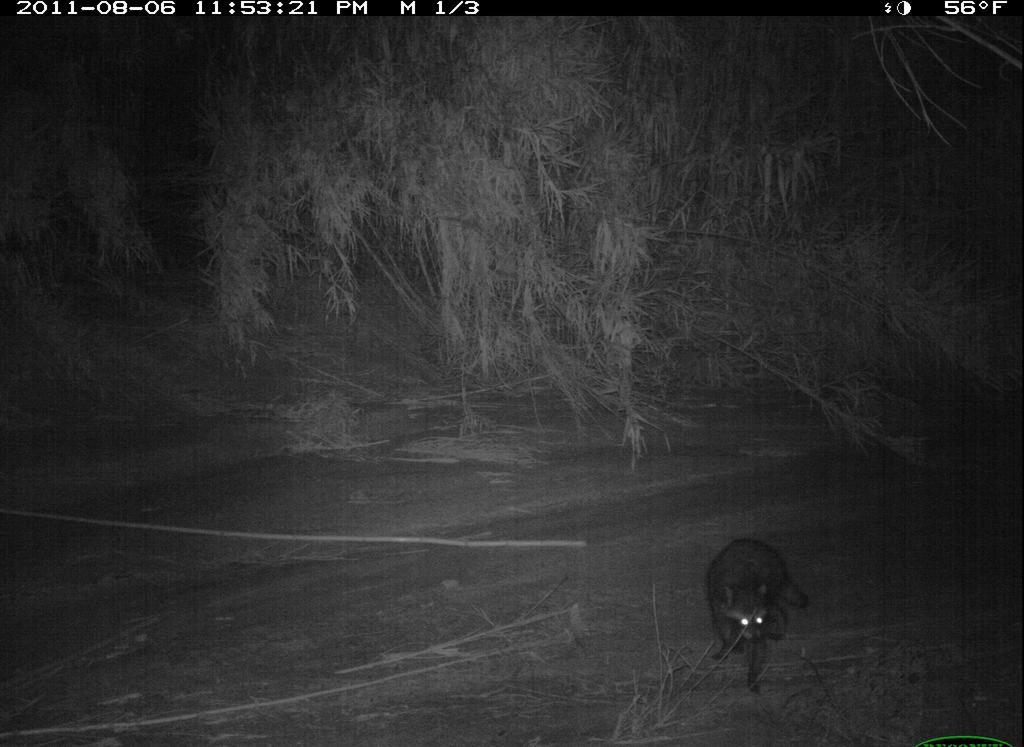raccoon: (697, 527, 813, 698)
